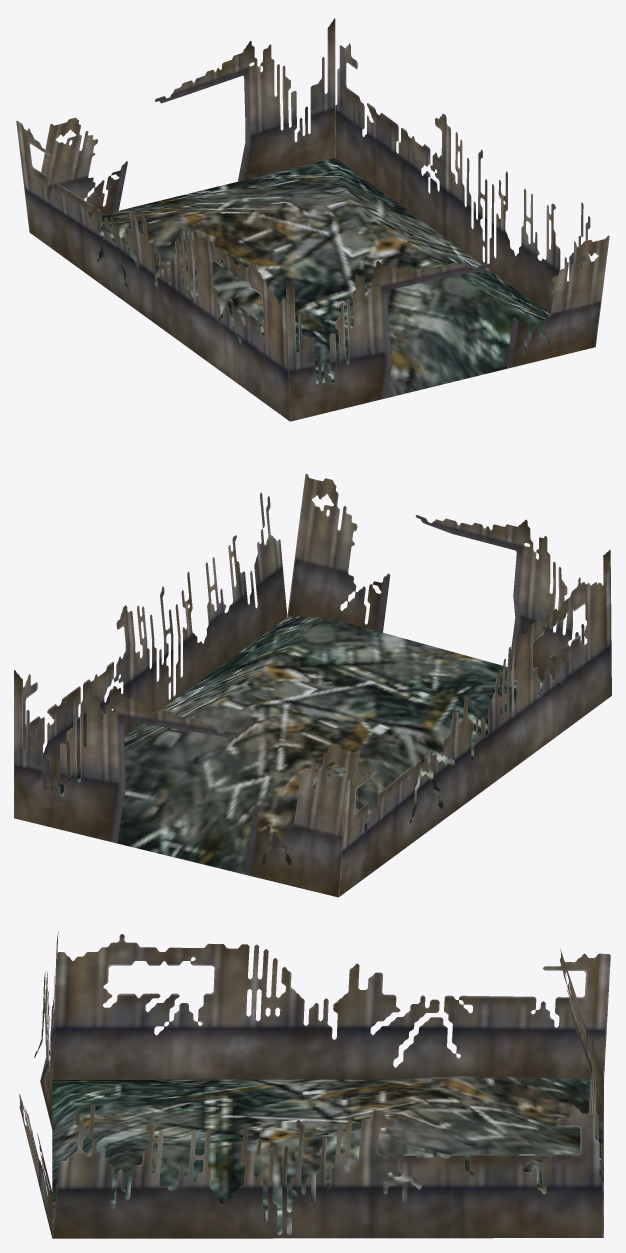
File: civstoragea_dam.glb
The picture shows the model from 3 angles, top to bottom: view 1: azimuth 30°, elevation 25°; view 2: azimuth 150°, elevation 25°; view 3: azimuth 270°, elevation 25°; orthographic projection. The views are drawn at different scales.
Visible parts, largest first — view 1: Box01; view 2: Box01; view 3: Box01.
Boxes of the visible parts, x1,y1,x2,y2 form: Box01: [16, 18, 609, 421]; Box01: [14, 474, 611, 897]; Box01: [19, 931, 610, 1238].
Size of the model in its own units: 8.22 by 3.46 by 12.27.
Materials: 2 (2 with a texture image).
